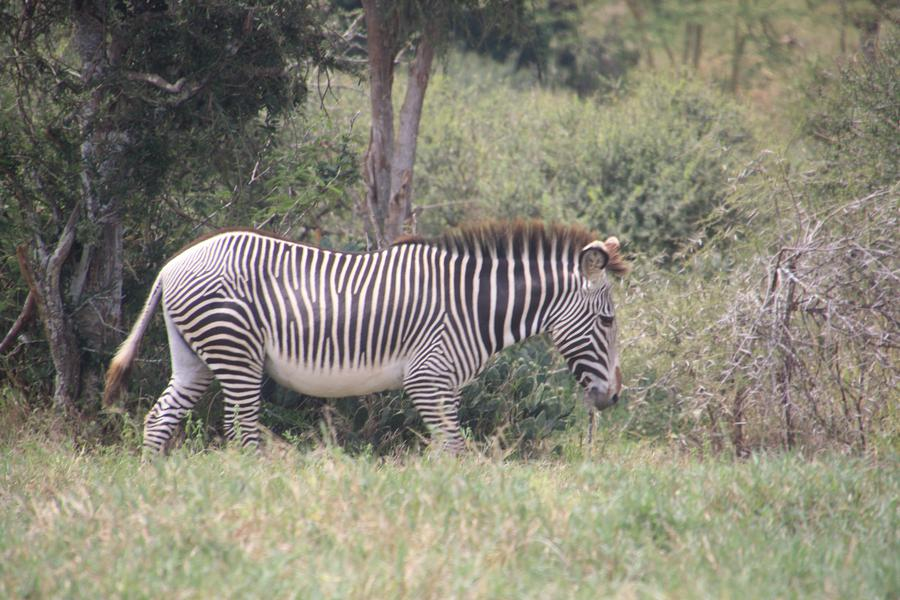zebra_grevys: (151, 219, 476, 393)
